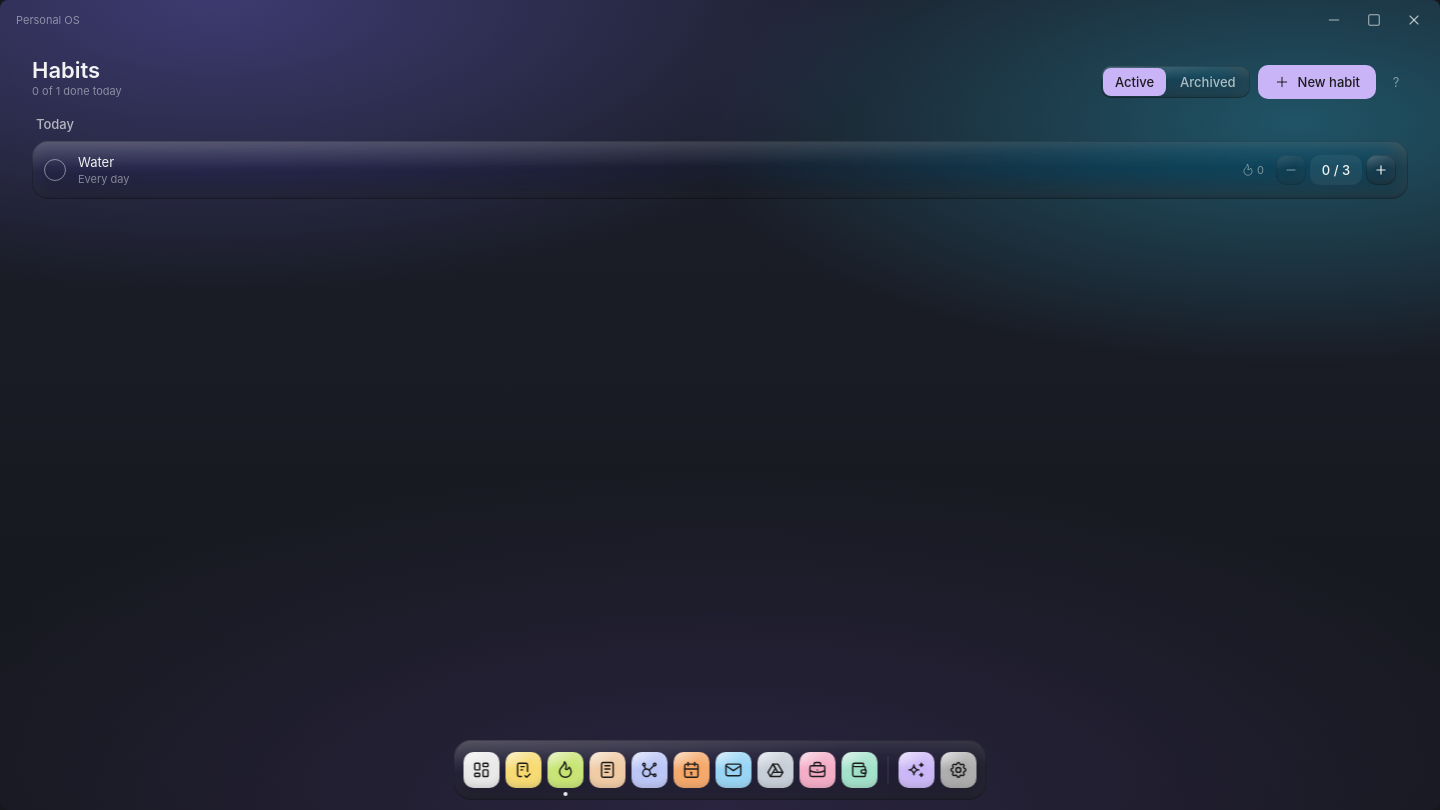
today list › counts up a counter habit with + and down with -
Click the button named "Add one: Water": coordinates (1381, 170) x1=1366 y1=155 x2=1396 y2=185
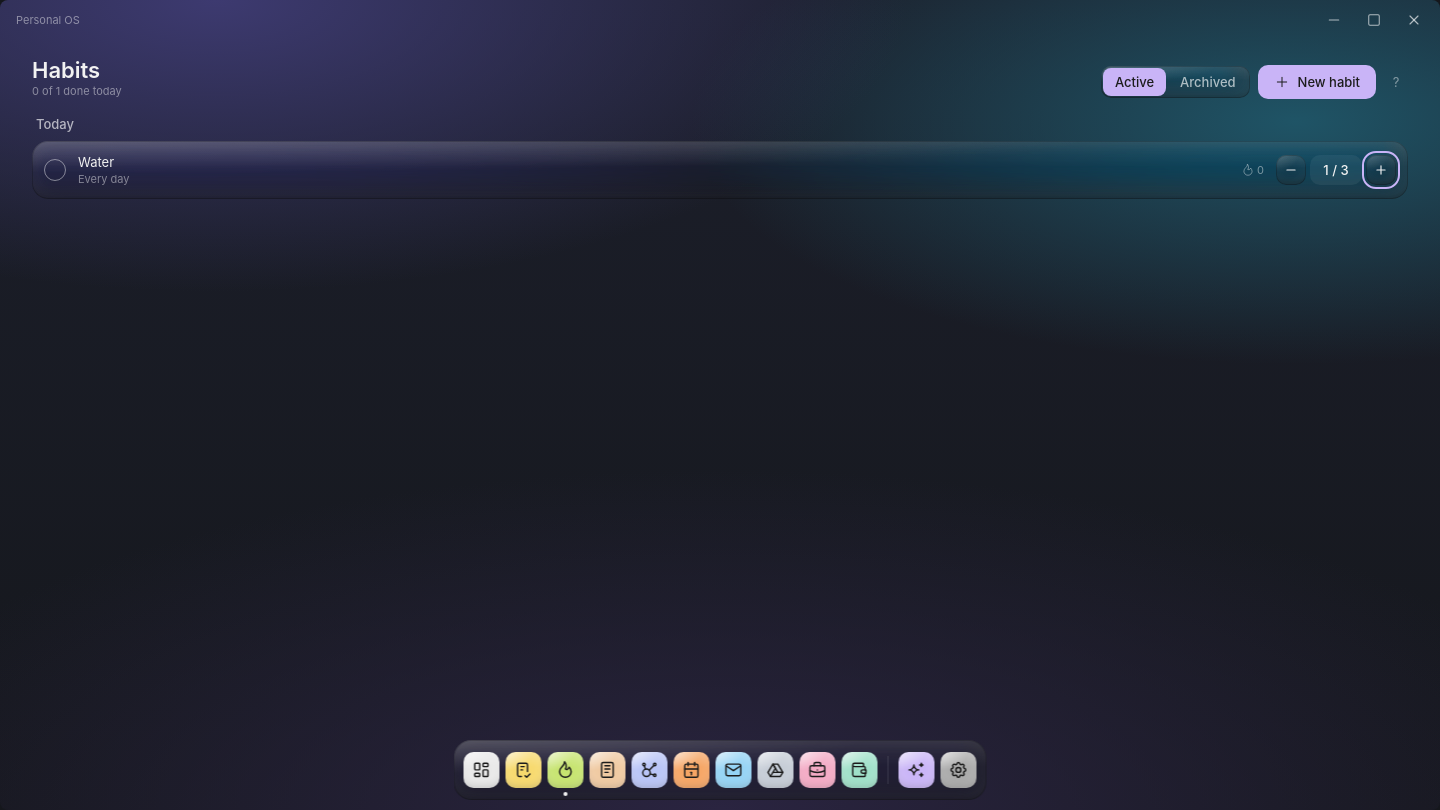
Expected: the text "1 / 3" is shown, x1=1310 y1=155 x2=1362 y2=185
Click the button named "Add one: Water": coordinates (1381, 170) x1=1366 y1=155 x2=1396 y2=185
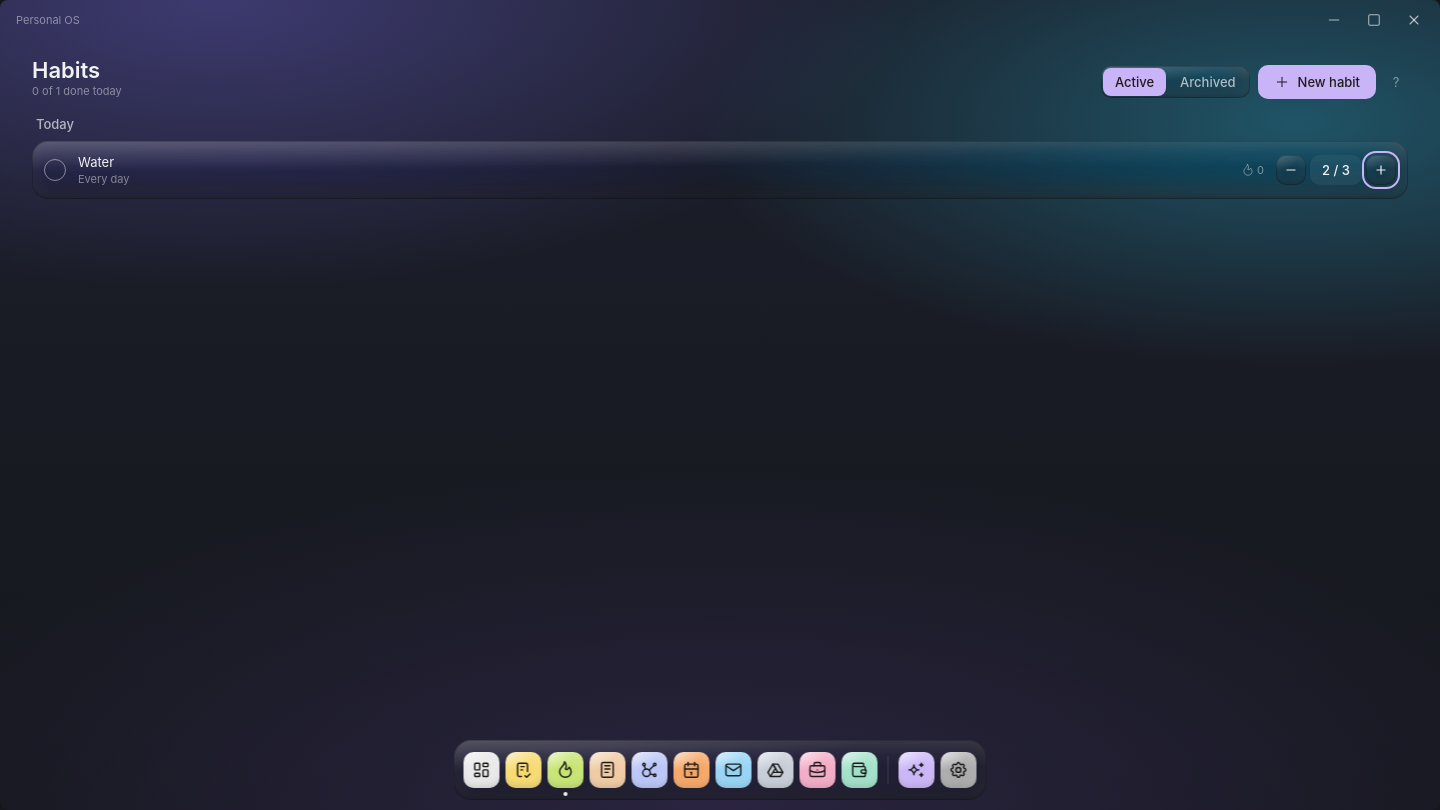
Click the button named "Add one: Water": coordinates (1381, 170) x1=1366 y1=155 x2=1396 y2=185
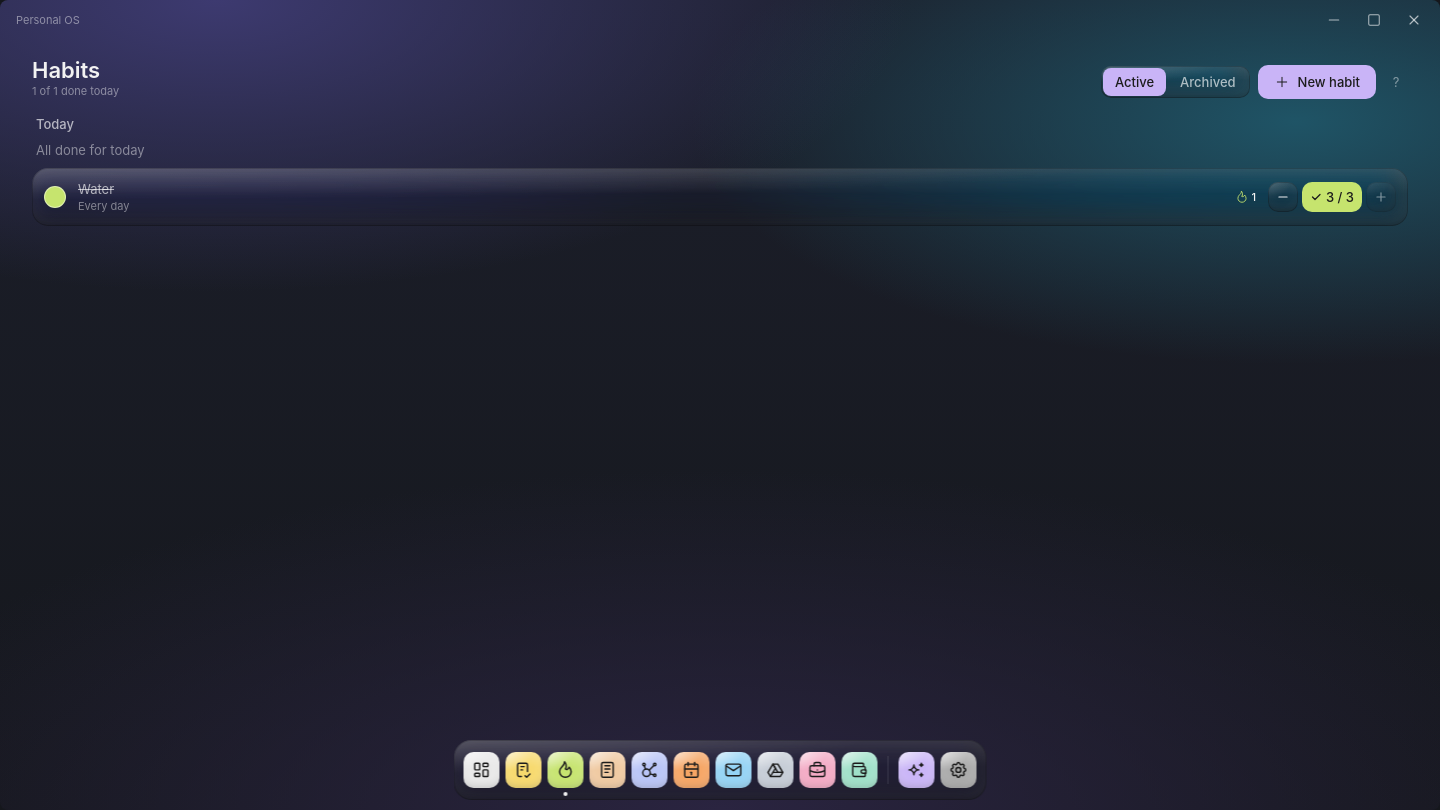
Expected: the text "3 / 3" is shown, x1=1302 y1=182 x2=1362 y2=212
Expected: the button named "Add one: Water" is disabled, x1=1366 y1=182 x2=1396 y2=212
Click the button named "Remove one: Water": coordinates (1283, 197) x1=1268 y1=182 x2=1298 y2=212
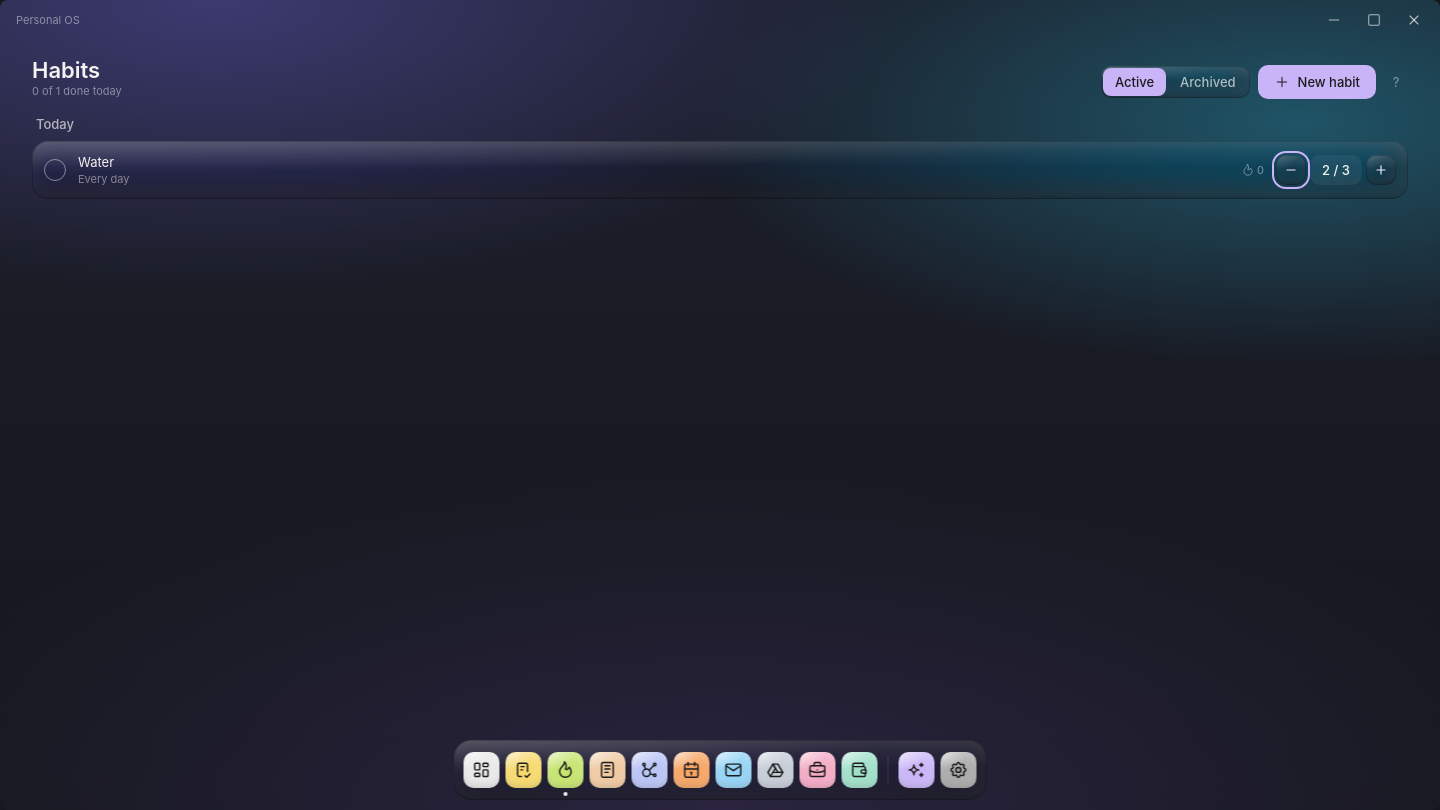
Expected: the text "2 / 3" is shown, x1=1310 y1=155 x2=1362 y2=185
